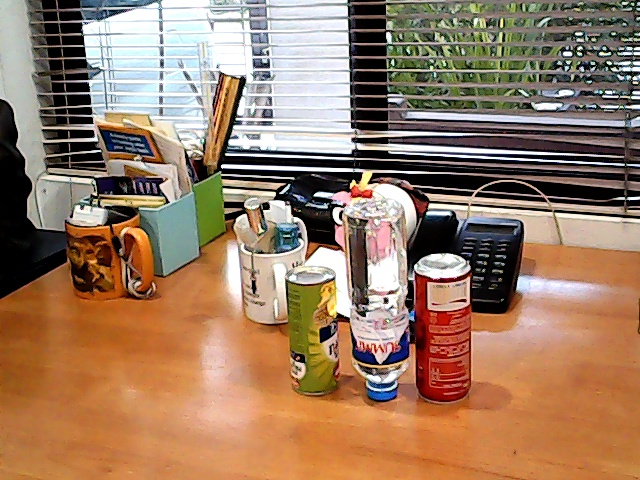Cola: (406, 240, 483, 416)
Pine Juice: (279, 255, 345, 402)
Summit Water: (343, 189, 417, 408)
